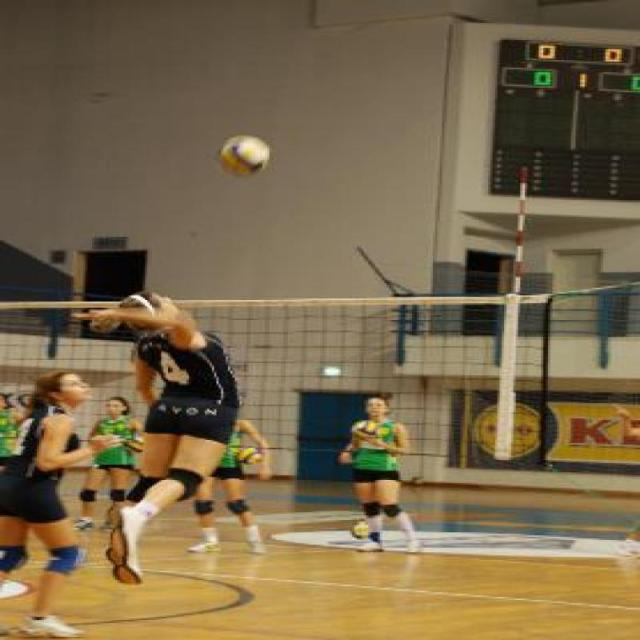volleyball: (218, 132, 272, 178), (232, 446, 260, 466), (350, 520, 373, 540), (120, 436, 142, 454)
